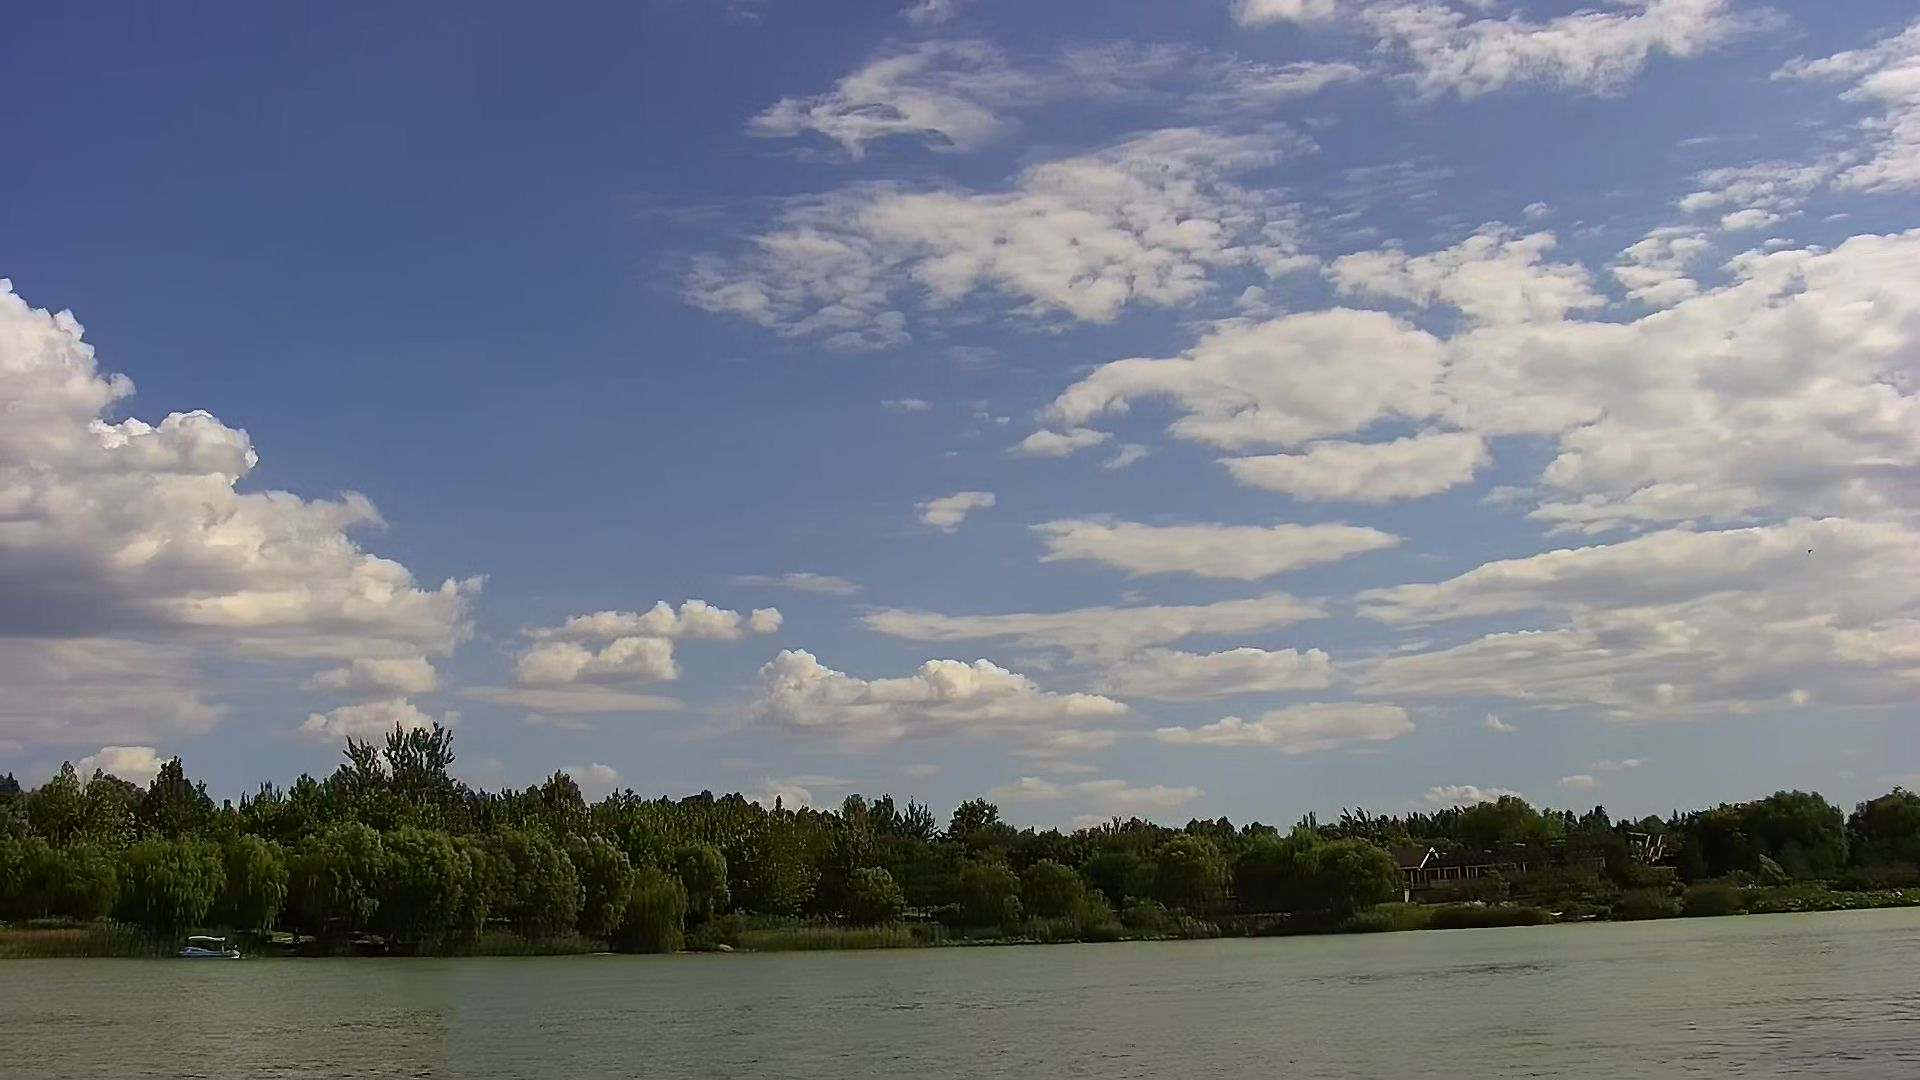boat: (171, 930, 247, 967)
